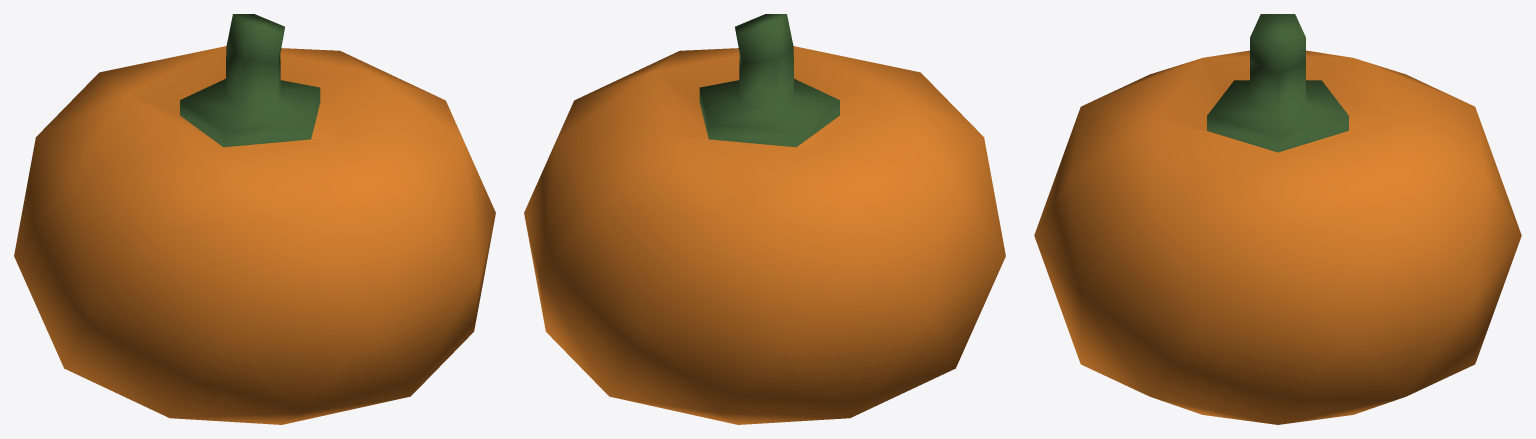
Rendered from pumpkinOrangePlain.glb.
3 views of the same model, side by side, from view 1: azimuth 30°, elevation 25°; view 2: azimuth 150°, elevation 25°; view 3: azimuth 270°, elevation 25° (orthographic).
Parts seen in each view (by area): view 1: PumpkinOrangePlain; view 2: PumpkinOrangePlain; view 3: PumpkinOrangePlain.
Part boxes in pixels (x1,y1,x2,y2): PumpkinOrangePlain: [14, 14, 495, 424]; PumpkinOrangePlain: [524, 14, 1005, 424]; PumpkinOrangePlain: [1034, 14, 1521, 424].
Size of what is drawn, in the model's own units: 0.5615 by 0.4685 by 0.5904.
Materials: 1 (1 with a texture image).
